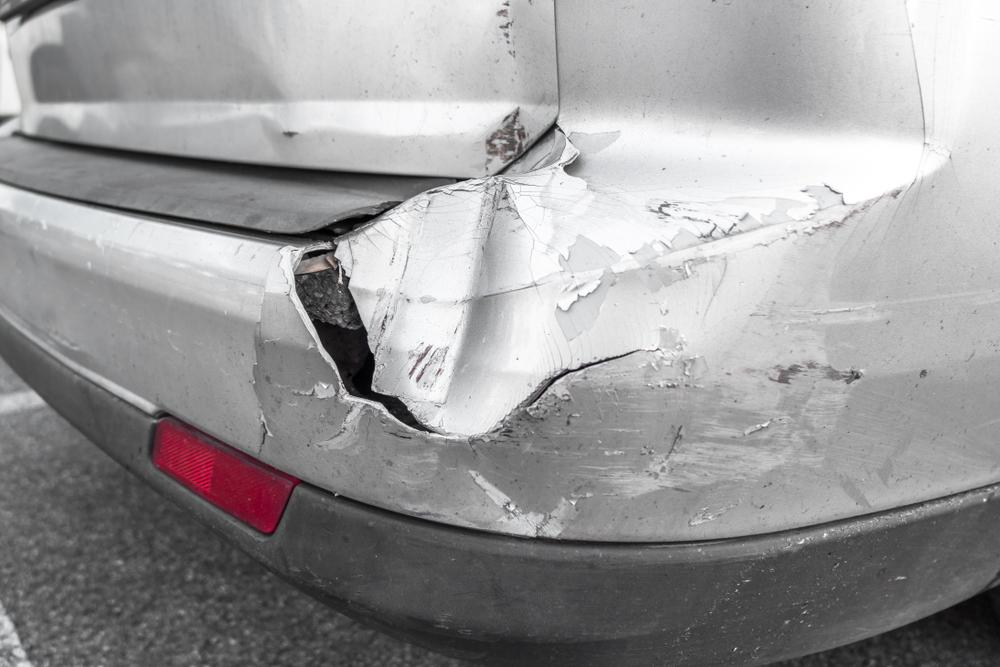crack: (292, 241, 655, 447)
dent: (340, 168, 587, 424), (231, 73, 294, 161)
scratch: (366, 180, 879, 528)
